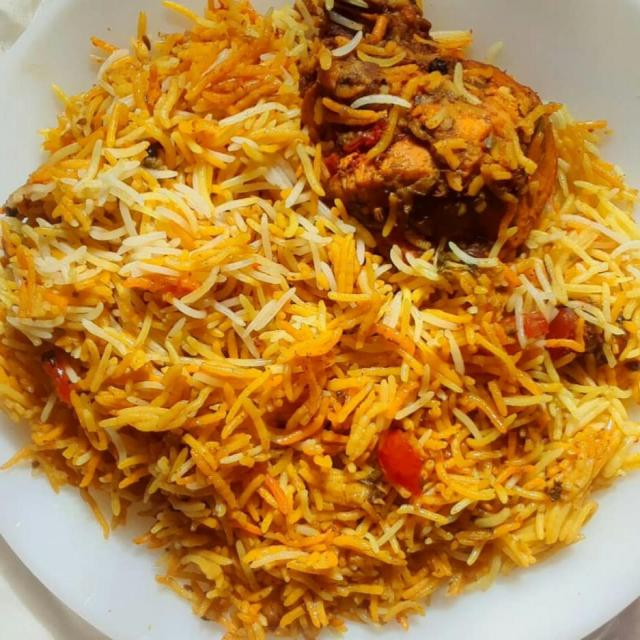Biryani: (11, 49, 640, 625)
